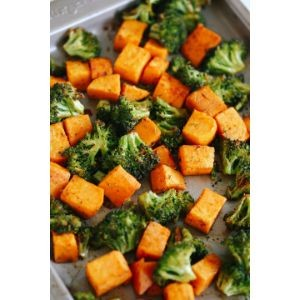sweet potato_brain food: (75, 69, 234, 257)
